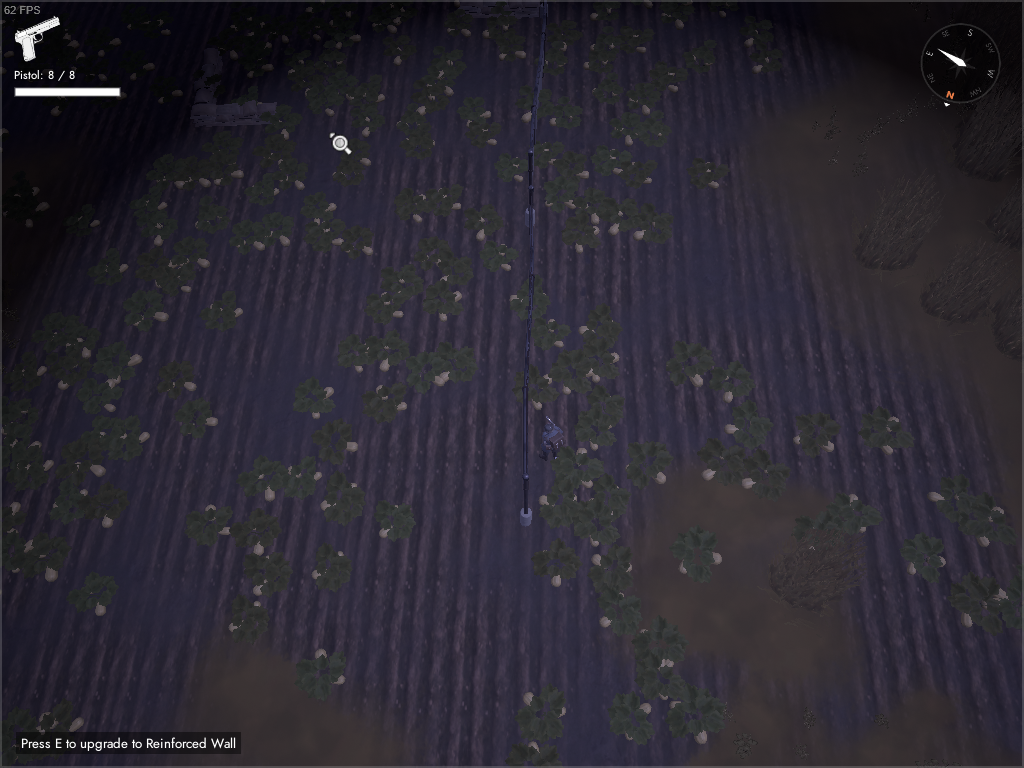fence: (522, 1, 556, 231), (516, 185, 536, 527)
player: (536, 415, 567, 463)
sandbag: (183, 97, 284, 134), (186, 42, 226, 125), (452, 1, 552, 21)
